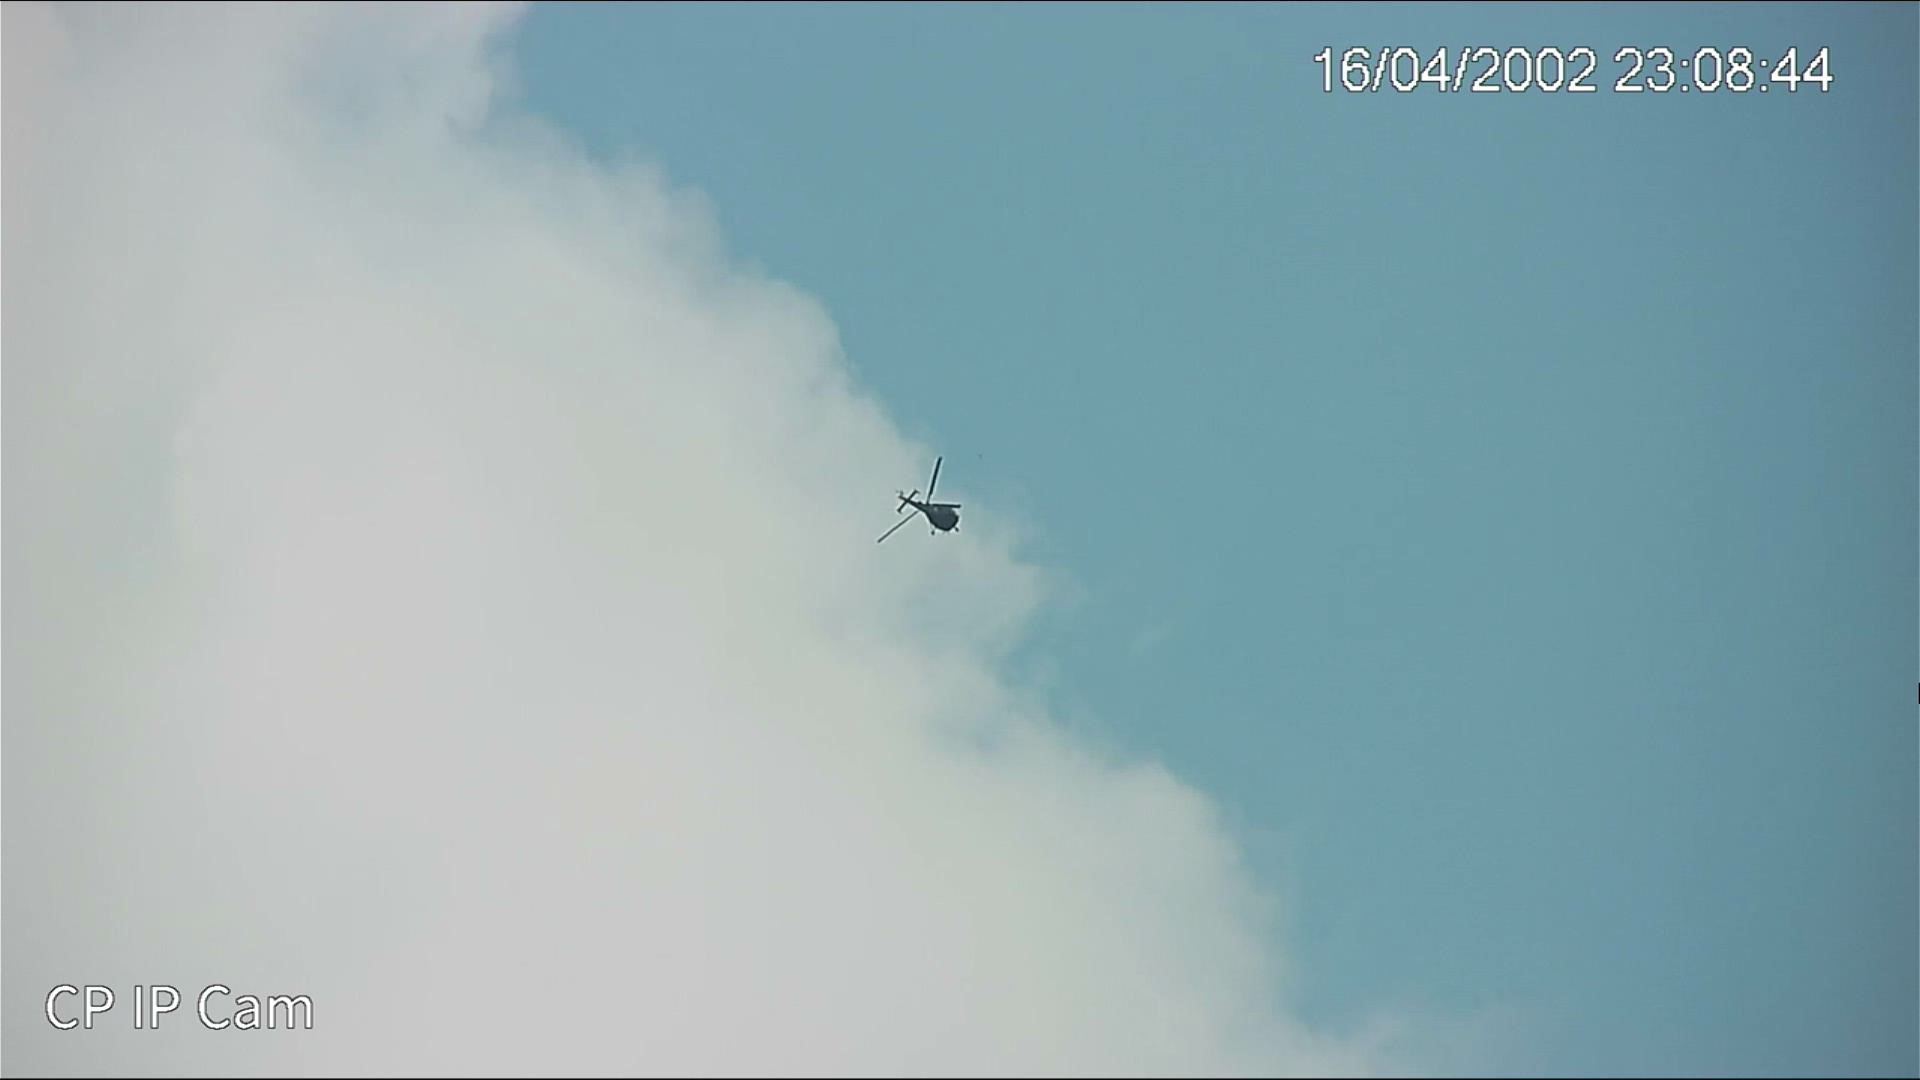SU_30: (878, 487, 967, 543)
